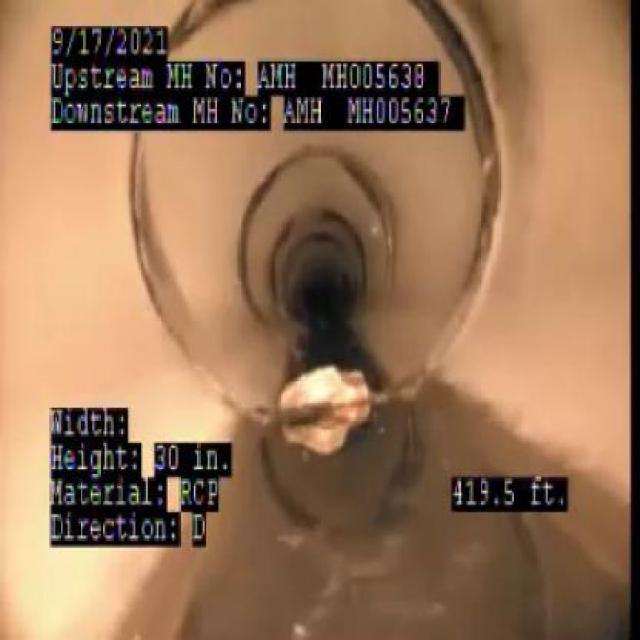Debris: (249, 345, 389, 443)
